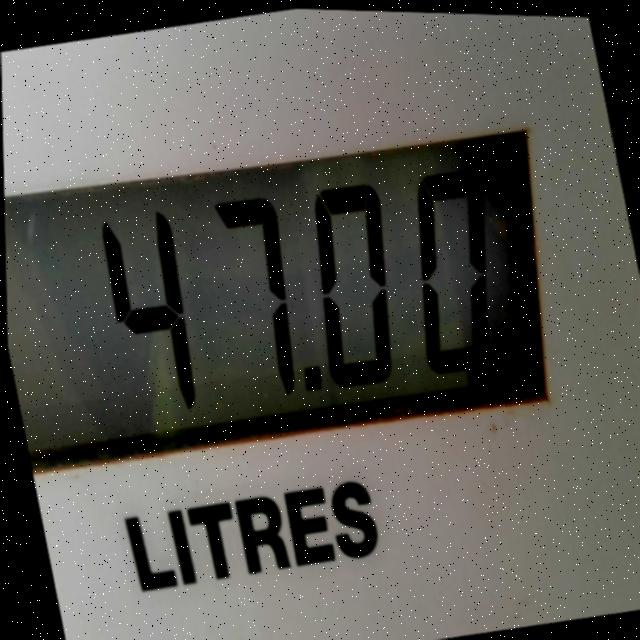.: (292, 339, 330, 420)
0: (386, 151, 519, 388), (289, 170, 421, 403)
4: (75, 202, 225, 431)
7: (200, 179, 306, 402)
